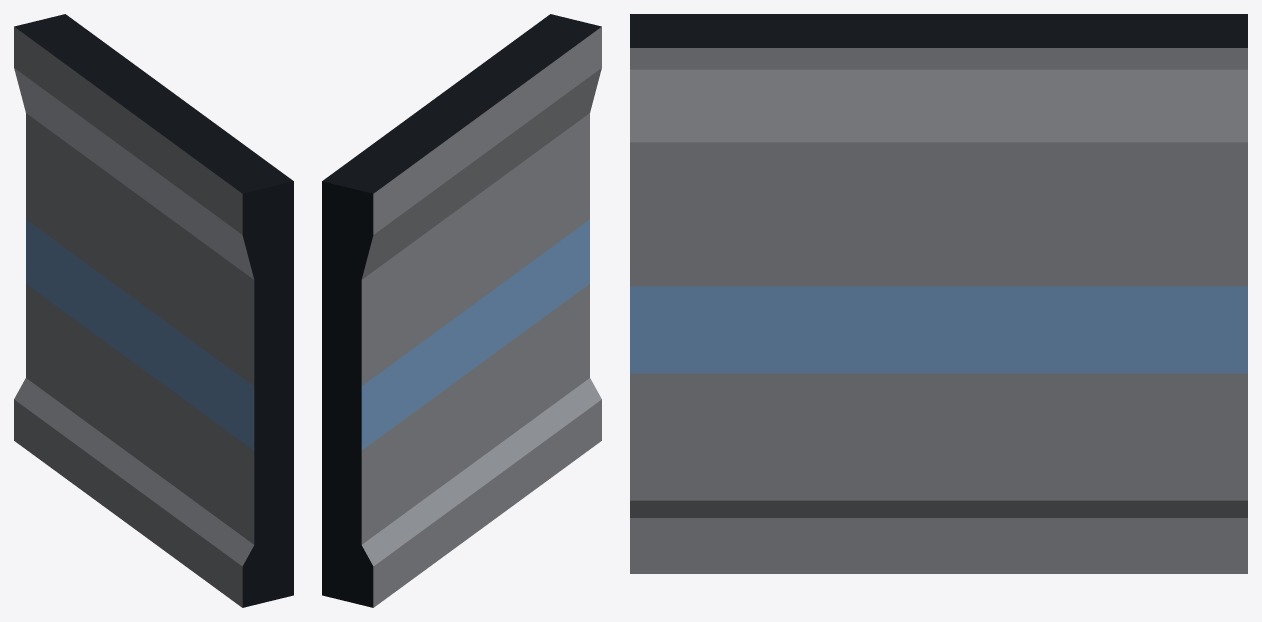
File: sm_Wall_Straight_B_00.fbx
3 views of the same model, side by side, from view 1: azimuth 30°, elevation 25°; view 2: azimuth 150°, elevation 25°; view 3: azimuth 270°, elevation 25° (orthographic). The views are drawn at different scales.
Visible parts, largest first — view 1: Wall_Straight_B_00; view 2: Wall_Straight_B_00; view 3: Wall_Straight_B_00.
Boxes of the visible parts, x1,y1,x2,y2 form: Wall_Straight_B_00: (14,14,293,607); Wall_Straight_B_00: (322,14,601,607); Wall_Straight_B_00: (630,14,1247,573).
Size of the model in its own units: 200 by 200 by 26.
